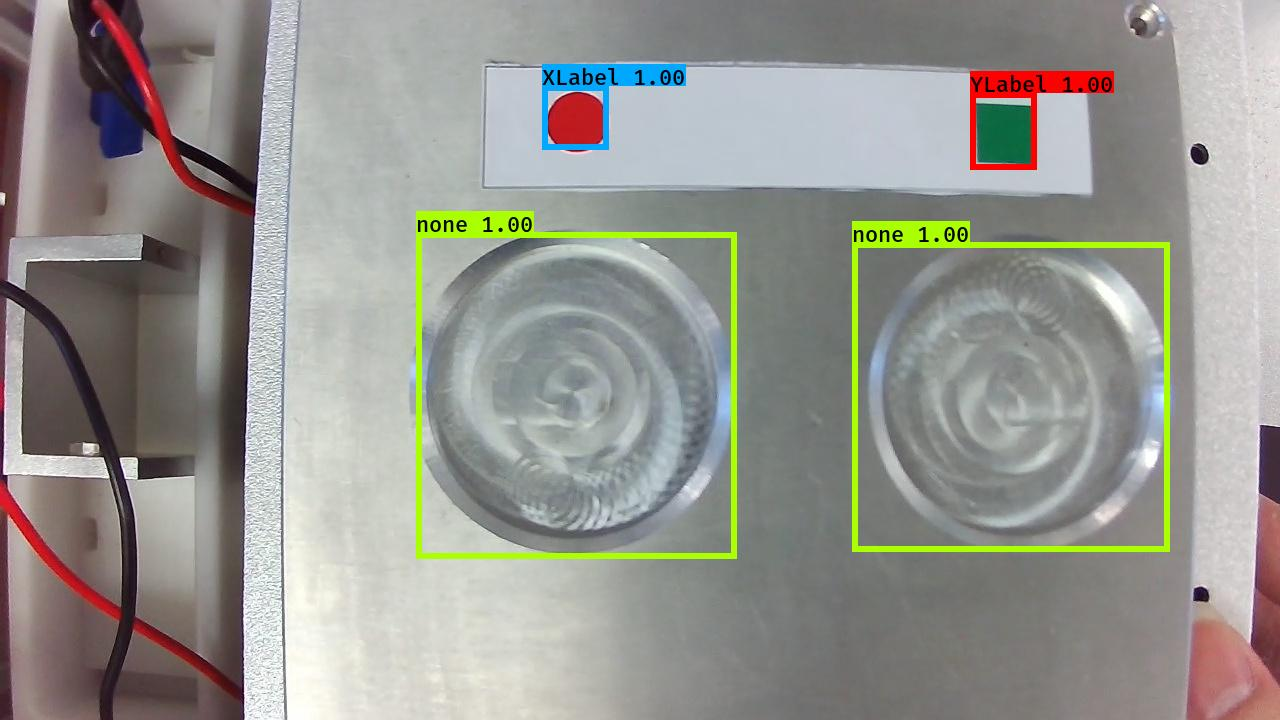XLabel: (545, 90, 611, 156)
YLabel: (972, 98, 1037, 166)
none: (407, 225, 738, 559), (861, 229, 1177, 561)
